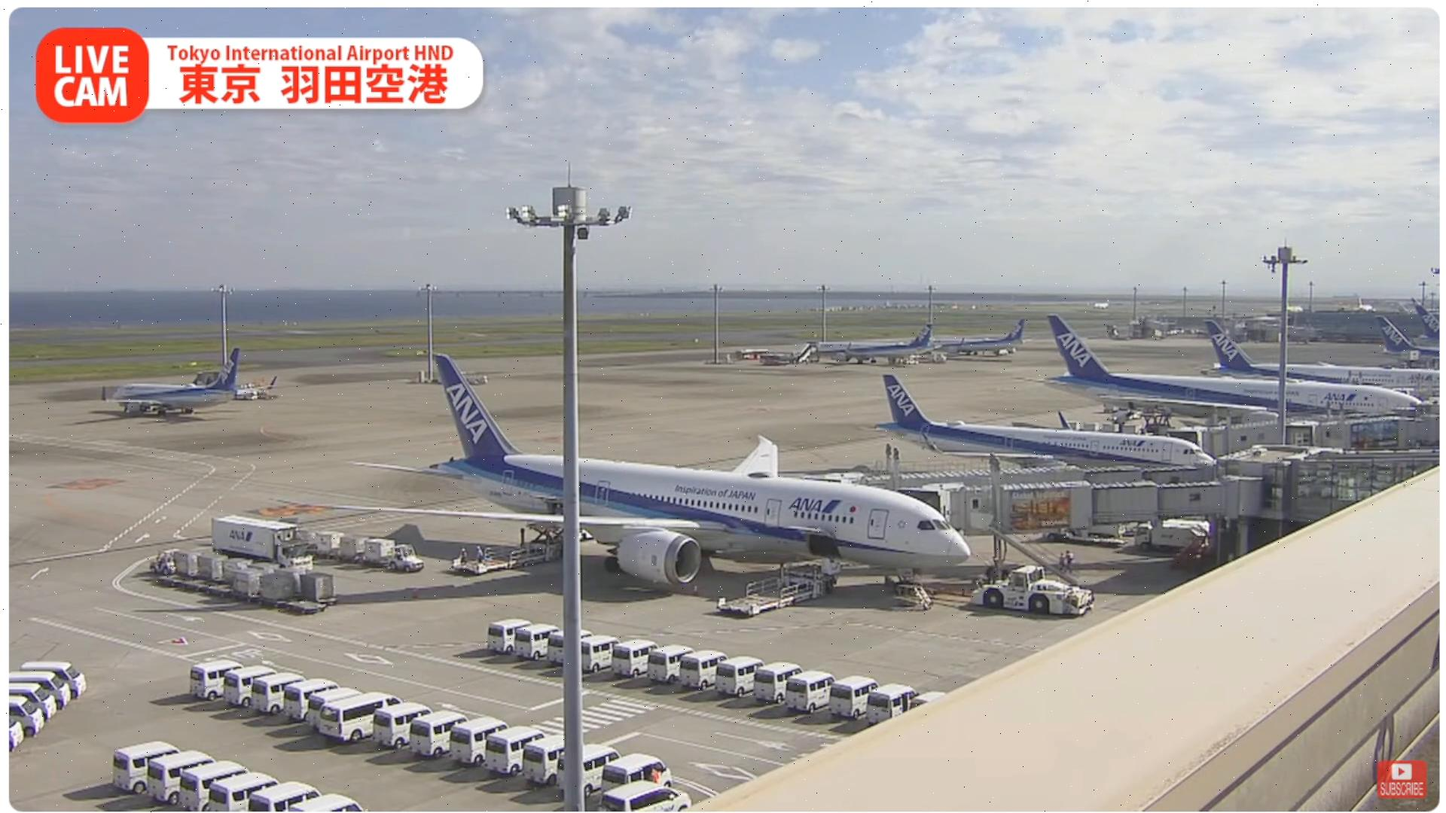APS: (969, 564, 1106, 619)
Aerobridge: (896, 476, 1261, 541), (843, 457, 1217, 496)
Airplane: (330, 354, 973, 599)
Catering: (208, 512, 319, 570)
Dolly: (173, 546, 339, 601), (159, 569, 329, 616), (296, 528, 392, 567)
JCPL: (714, 553, 842, 618), (452, 517, 566, 574)
Tractor: (390, 543, 426, 571), (147, 546, 178, 574)
Window: (1290, 456, 1440, 523)
